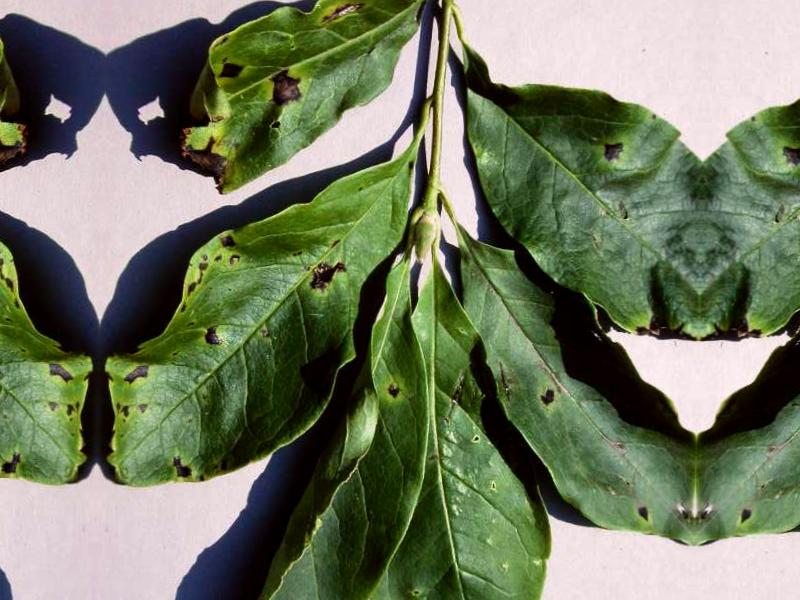Tomato leaf bacterial spot: (103, 143, 426, 494), (438, 194, 698, 543), (207, 259, 428, 600), (156, 0, 425, 189)
